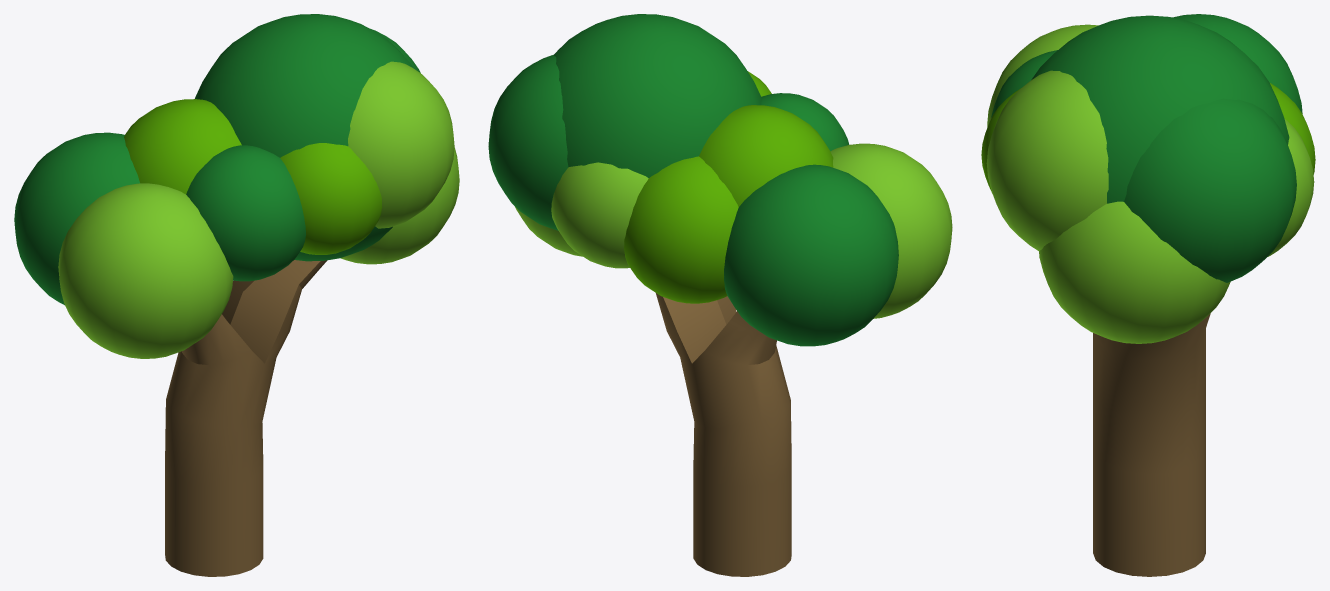
File: Large Tree.fbx
3 renders of one model, left to right at view 1: azimuth 30°, elevation 25°; view 2: azimuth 150°, elevation 25°; view 3: azimuth 270°, elevation 25°, orthographic. The views are drawn at different scales.
Visible parts, largest first — view 1: pCylinder1, pSphere2, pSphere1, pasted__pSphere2 (×2), pSphere8, pSphere5, pSphere6, pSphere4; view 2: pCylinder1, pSphere5, pSphere1, pSphere3, pSphere2, pasted__pSphere5, pSphere4, pSphere7, pSphere8, pasted__pSphere2; view 3: pasted__pSphere2 (×2), pCylinder1, pasted__pSphere5, pSphere1, pSphere5, pSphere7, pSphere2, pSphere8, pSphere3, pSphere6.
Boxes of the visible parts, x1,y1,x2,y2 form: pCylinder1: [165, 260, 327, 576]; pSphere2: [58, 183, 233, 358]; pSphere1: [195, 14, 414, 261]; pasted__pSphere2 (×2): [341, 61, 459, 264]; pSphere8: [186, 145, 305, 281]; pSphere5: [14, 132, 139, 305]; pSphere6: [280, 143, 382, 254]; pSphere4: [124, 99, 241, 194]; pCylinder1: [656, 293, 791, 576]; pSphere5: [724, 164, 898, 346]; pSphere1: [554, 14, 761, 178]; pSphere3: [624, 156, 738, 303]; pSphere2: [830, 143, 952, 318]; pasted__pSphere5: [488, 54, 568, 230]; pSphere4: [699, 105, 833, 206]; pSphere7: [551, 162, 648, 268]; pSphere8: [761, 93, 849, 151]; pasted__pSphere2: [515, 207, 582, 256]; pasted__pSphere2 (×2): [986, 70, 1230, 343]; pCylinder1: [1093, 313, 1210, 576]; pasted__pSphere5: [1124, 98, 1296, 282]; pSphere1: [1031, 15, 1289, 203]; pSphere5: [1172, 14, 1302, 113]; pSphere7: [1268, 119, 1314, 256]; pSphere2: [987, 24, 1098, 126]; pSphere8: [991, 50, 1057, 117]; pSphere3: [1270, 83, 1315, 174]; pSphere6: [981, 88, 1020, 193].
Size of the model in its own units: 9.35 by 11.29 by 5.91.
